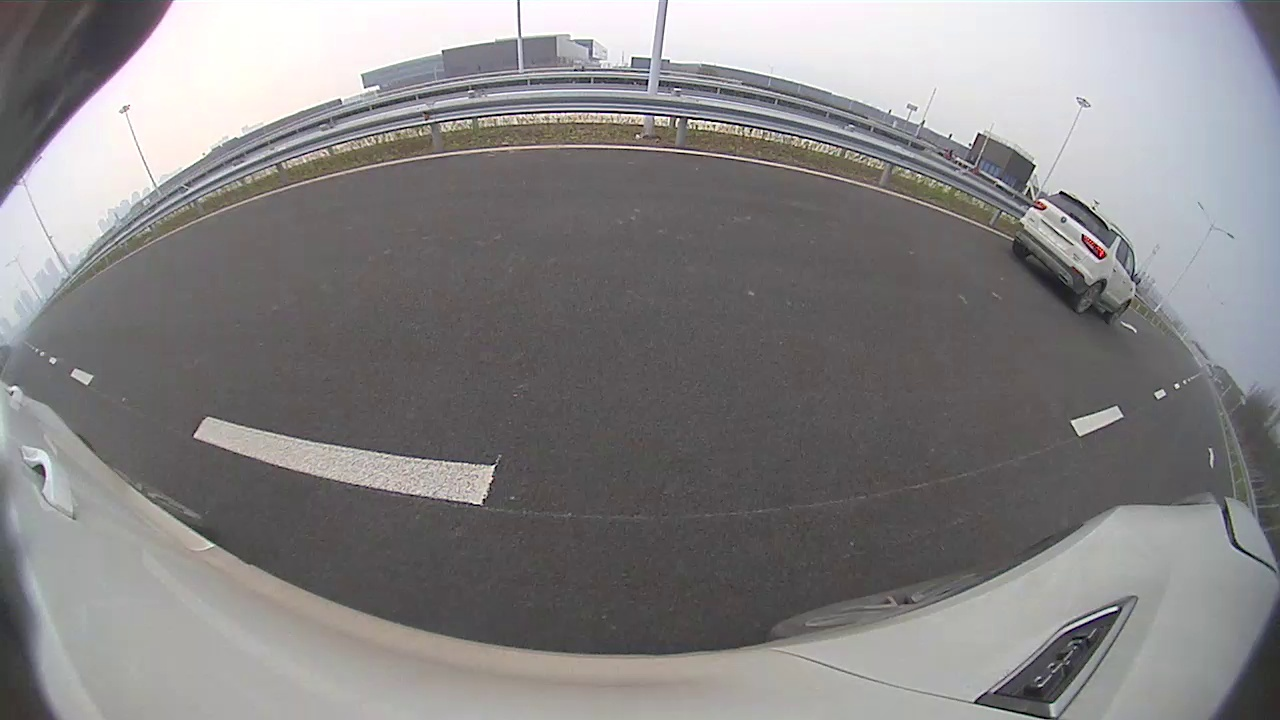car: (241, 108, 542, 307)
front: (522, 187, 541, 231)
rear: (400, 209, 456, 288)
